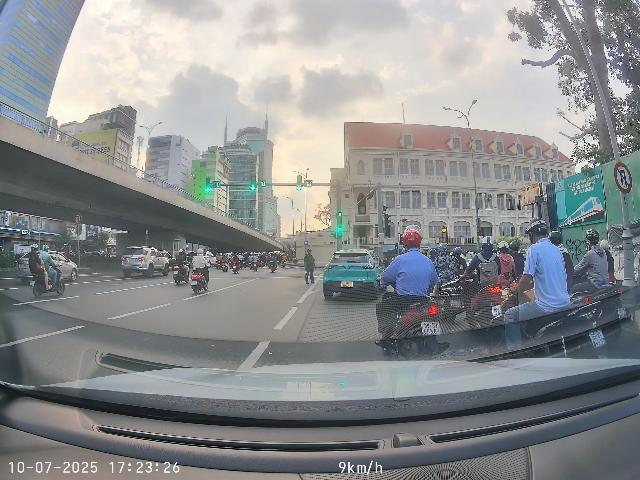124a-cam-quay-dau-xe: (614, 162, 632, 194)
